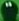black: (0, 0, 19, 21)
